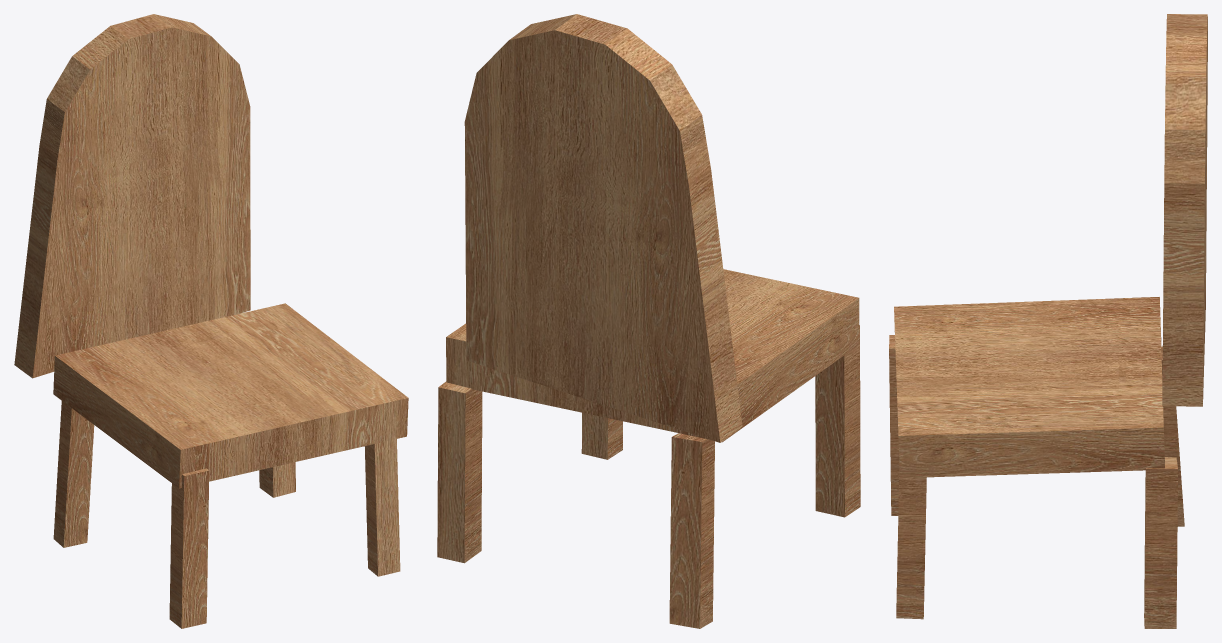
File: 36957_ours.glb
3 renders of one model, left to right at view 1: azimuth 30°, elevation 25°; view 2: azimuth 150°, elevation 25°; view 3: azimuth 270°, elevation 25°, orthographic. The views are drawn at different scales.
Visible parts, largest first — view 1: ParentEmpty; view 2: ParentEmpty; view 3: ParentEmpty.
Boxes of the visible parts, x1,y1,x2,y2 form: ParentEmpty: (14, 14, 408, 628); ParentEmpty: (437, 14, 860, 628); ParentEmpty: (889, 14, 1207, 628).
Bounding box in the file's own units: 0.5421 × 1 × 0.5361.
1 material, 1 textured.
